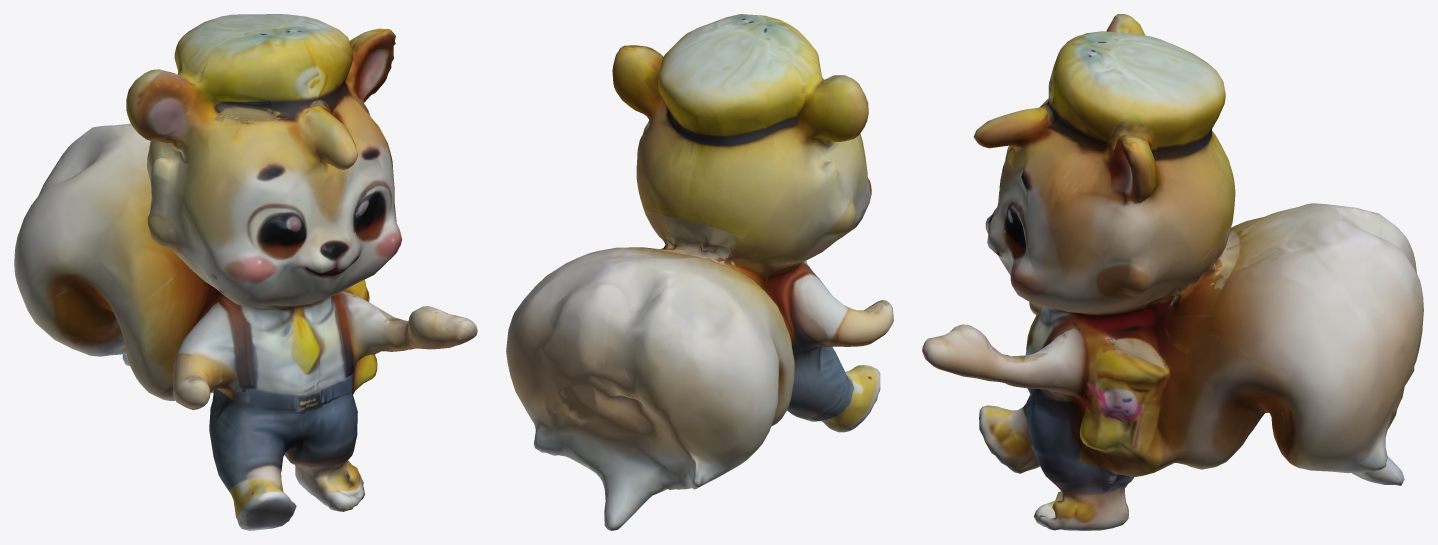
The model's file is 3d-daramgi.glb.
3 renders of one model, left to right at view 1: azimuth 30°, elevation 25°; view 2: azimuth 150°, elevation 25°; view 3: azimuth 270°, elevation 25°, orthographic. The views are drawn at different scales.
Bounding box in the file's own units: 0.7727 × 1.2 × 1.18.
Materials: 1 (1 with a texture image).
